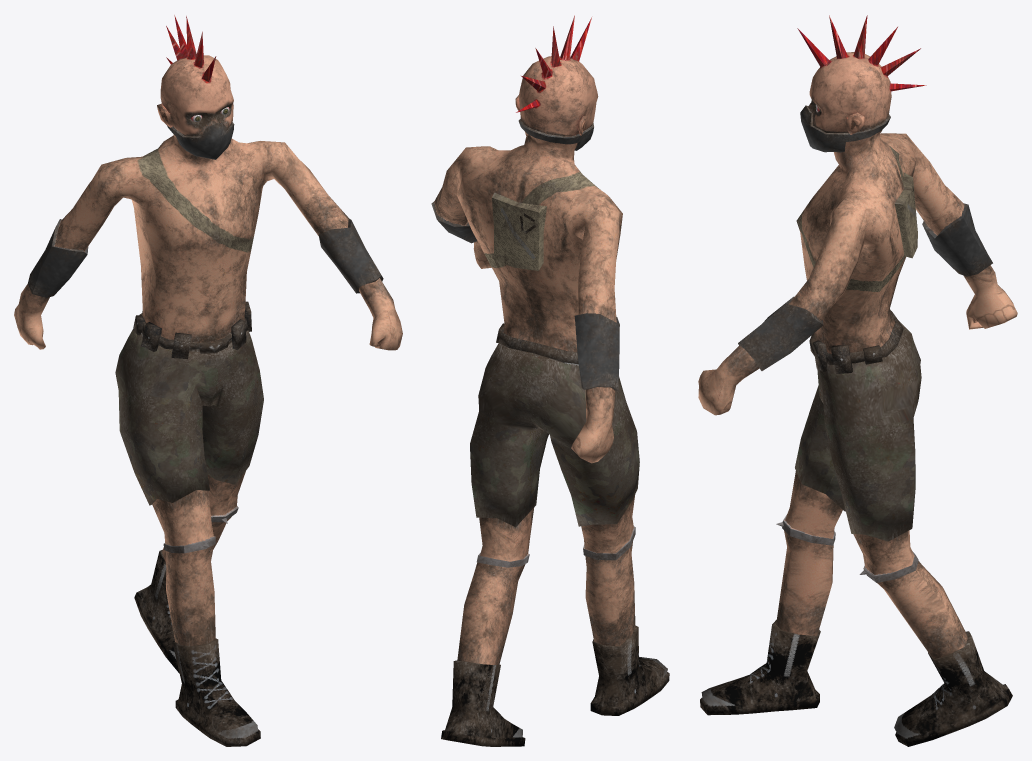
The model's file is Anim_andar_npc2.0026.obj.
3 renders of one model, left to right at view 1: azimuth 30°, elevation 25°; view 2: azimuth 150°, elevation 25°; view 3: azimuth 270°, elevation 25°, orthographic. The views are drawn at different scales.
Visible parts, largest first — view 1: Anim_andar_npc2; view 2: Anim_andar_npc2; view 3: Anim_andar_npc2.
Boxes of the visible parts, <box> form: Anim_andar_npc2: <box>14,15,402,746</box>; Anim_andar_npc2: <box>431,15,669,746</box>; Anim_andar_npc2: <box>698,15,1017,746</box>.
Bounding box in the file's own units: 4.04 × 10.24 × 4.16.
